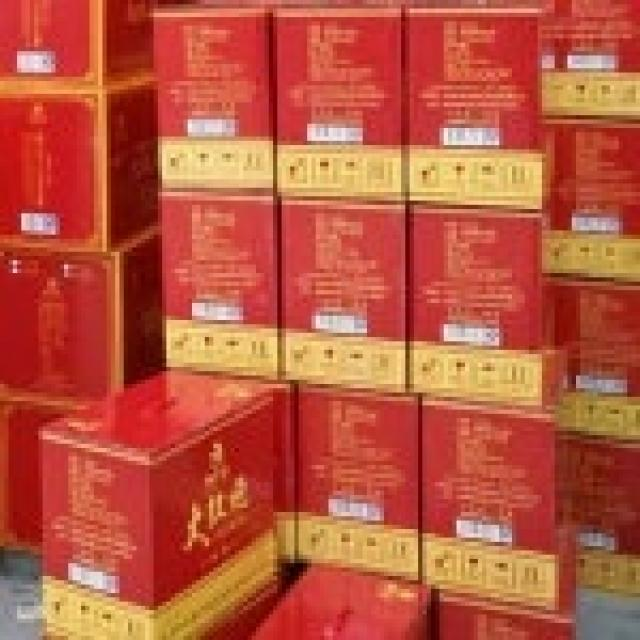box: (39, 370, 280, 610), (422, 386, 577, 612), (408, 204, 570, 409), (2, 224, 164, 407), (0, 75, 160, 254), (406, 8, 543, 211), (272, 7, 408, 202), (46, 528, 278, 636), (297, 384, 421, 585), (280, 200, 408, 394), (162, 190, 280, 381), (153, 8, 273, 190), (490, 0, 636, 119), (543, 118, 636, 282), (0, 0, 155, 90), (252, 564, 437, 636), (0, 401, 88, 550), (568, 278, 636, 444), (576, 433, 636, 602), (435, 590, 576, 636)
